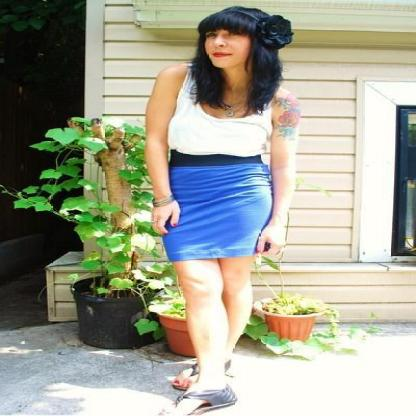shirt: (168, 75, 272, 173)
shoe: (187, 384, 236, 413)
skirt: (162, 164, 275, 260)
